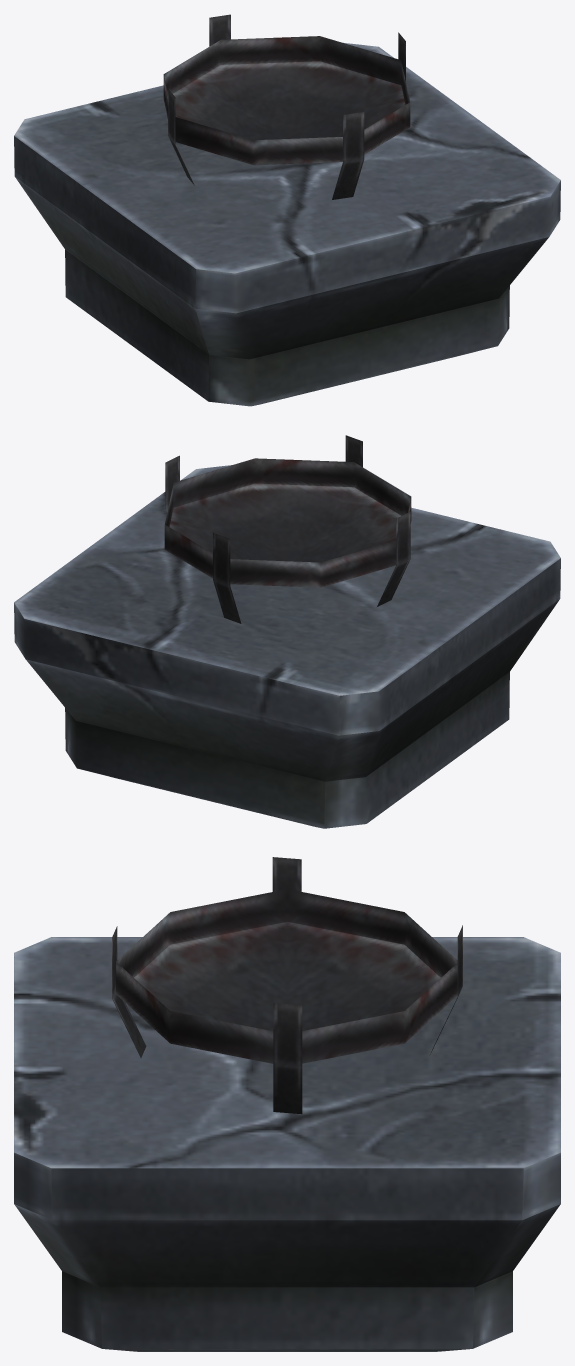
The model's file is B_shikuai009.fbx.
3 renders of one model, top to bottom at view 1: azimuth 30°, elevation 25°; view 2: azimuth 150°, elevation 25°; view 3: azimuth 270°, elevation 25°, orthographic. The views are drawn at different scales.
Visible parts, largest first — view 1: B_shikuai009; view 2: B_shikuai009; view 3: B_shikuai009.
Boxes of the visible parts, left/top/right/bottom form: B_shikuai009: left=14, top=14, right=560, bottom=406; B_shikuai009: left=14, top=435, right=560, bottom=828; B_shikuai009: left=14, top=857, right=560, bottom=1351.
Size of the model in its own units: 76.95 by 53.06 by 76.95.
